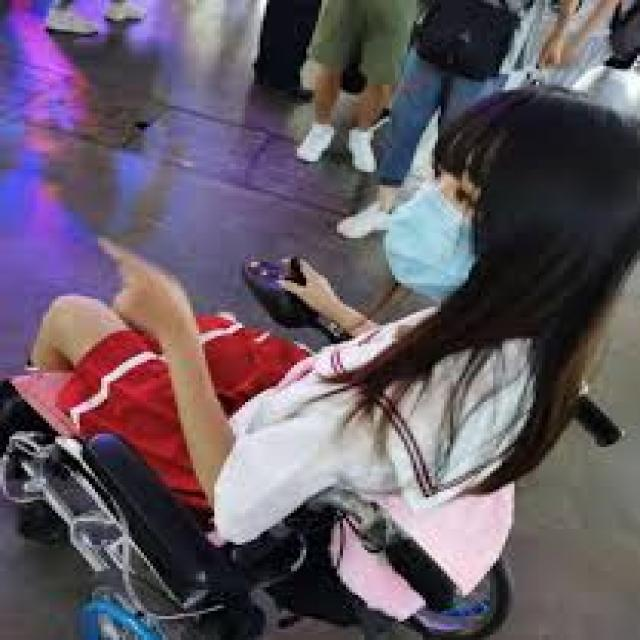wheelchairs: (0, 248, 622, 634)
